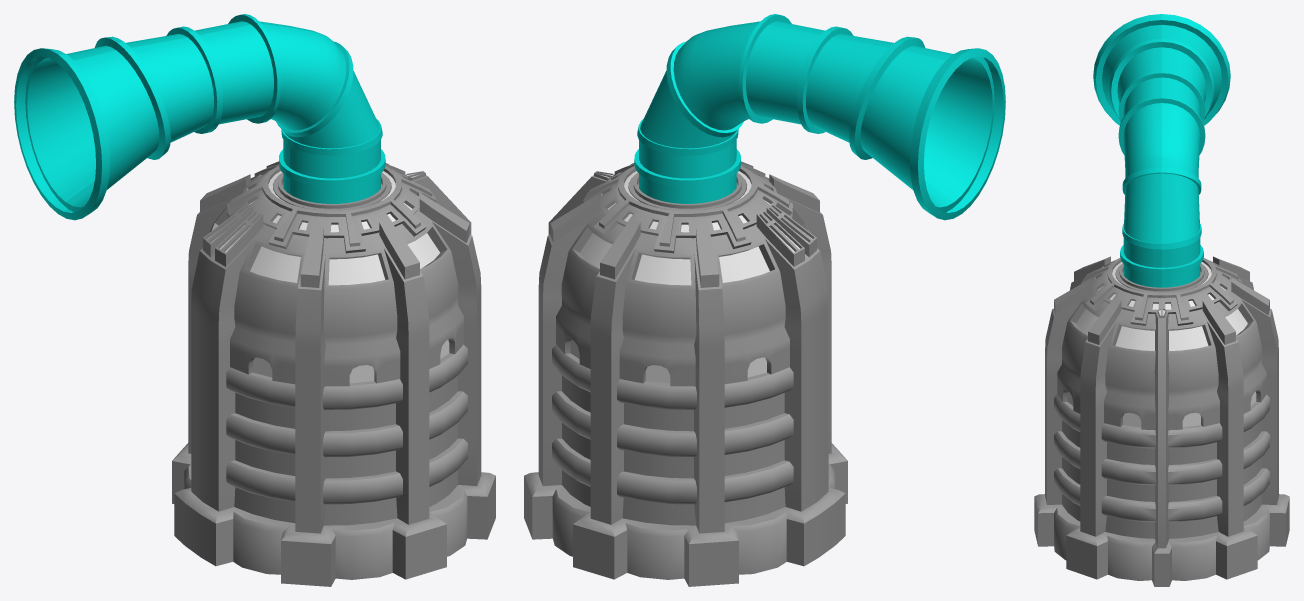
File: Hangar_Barrel.fbx
The picture shows the model from 3 angles, left to right: view 1: azimuth 30°, elevation 25°; view 2: azimuth 150°, elevation 25°; view 3: azimuth 270°, elevation 25°; orthographic projection. The views are drawn at different scales.
Visible parts, largest first — view 1: Hangar_Barrel; view 2: Hangar_Barrel; view 3: Hangar_Barrel.
Part boxes in pixels (left/top/right/bottom): Hangar_Barrel: left=14, top=14, right=495, bottom=586; Hangar_Barrel: left=524, top=14, right=1005, bottom=586; Hangar_Barrel: left=1034, top=14, right=1289, bottom=586.
Bounding box in the file's own units: 260 × 316 × 176.
